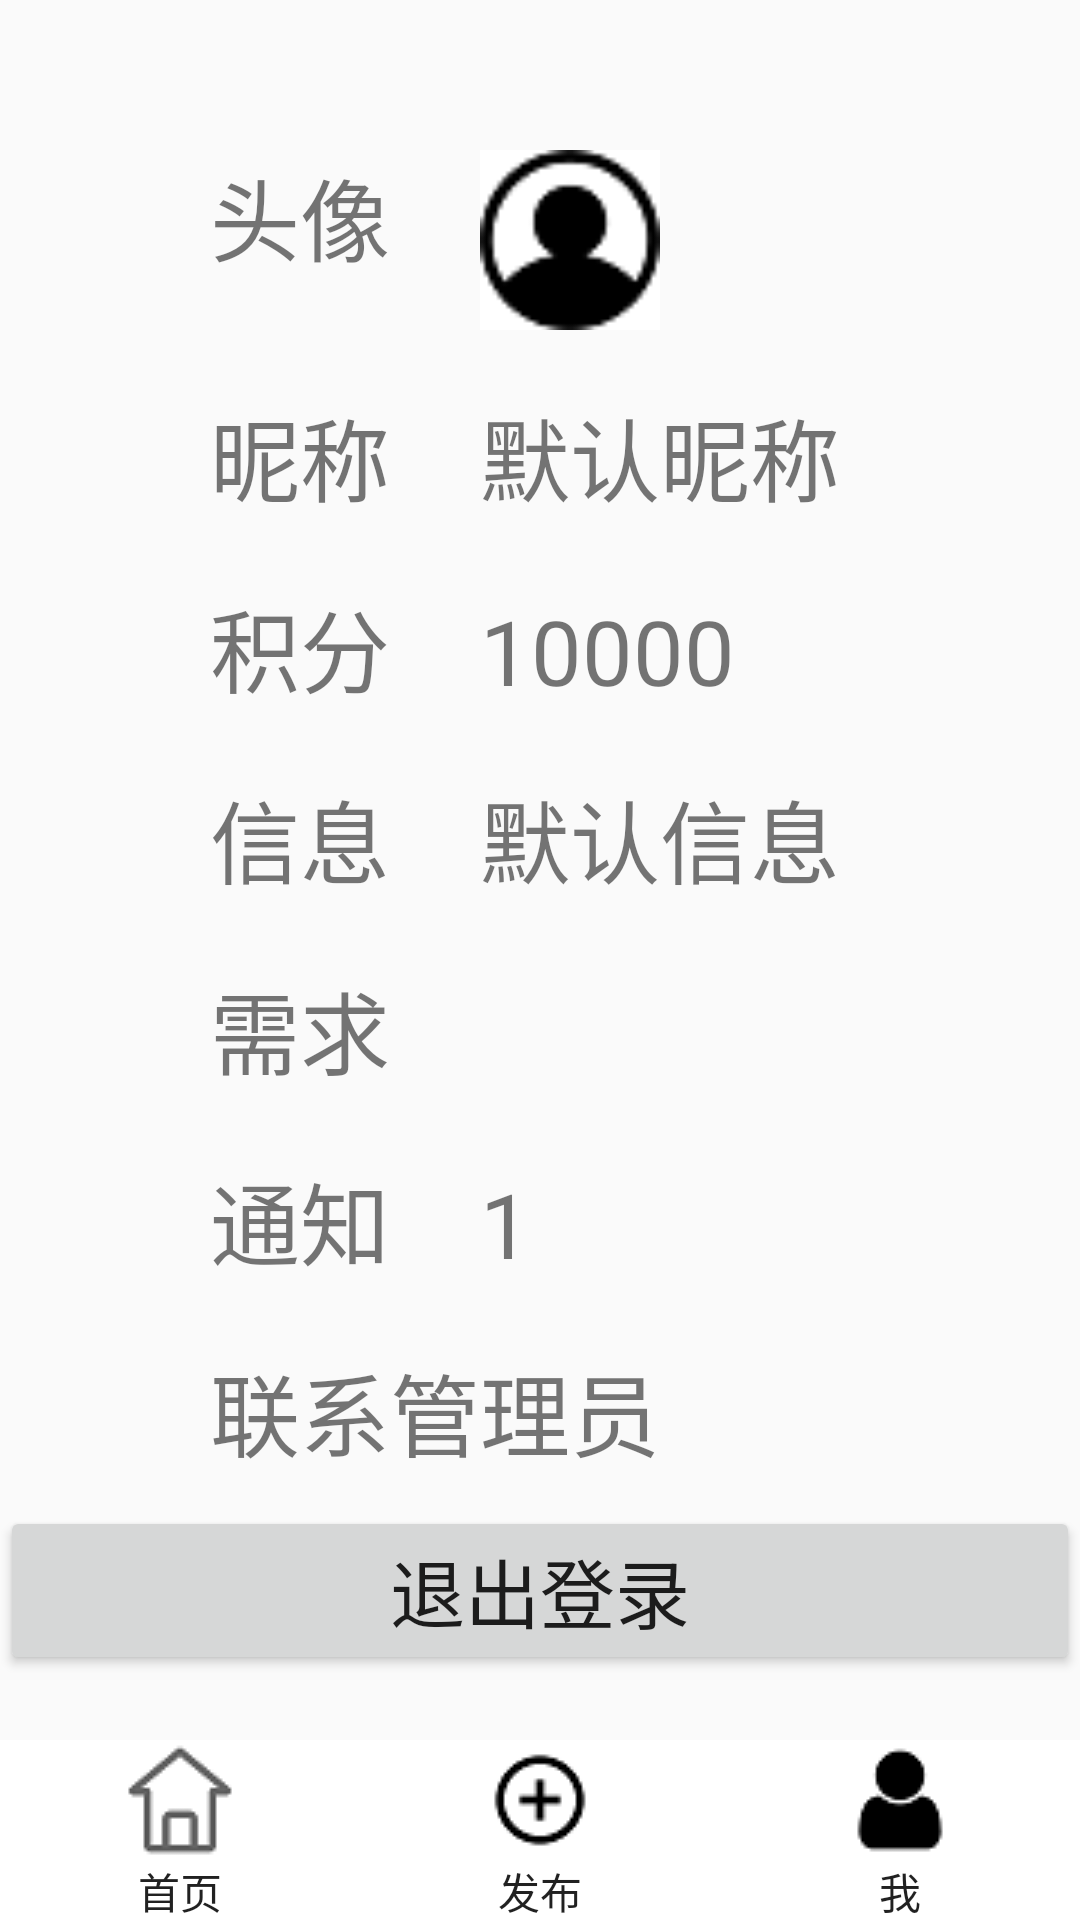

Screen size 1080x1920. Icon name, then its box in pixels as (x1, y1, x2, y2):
defaulthead: (480, 150, 660, 330)
